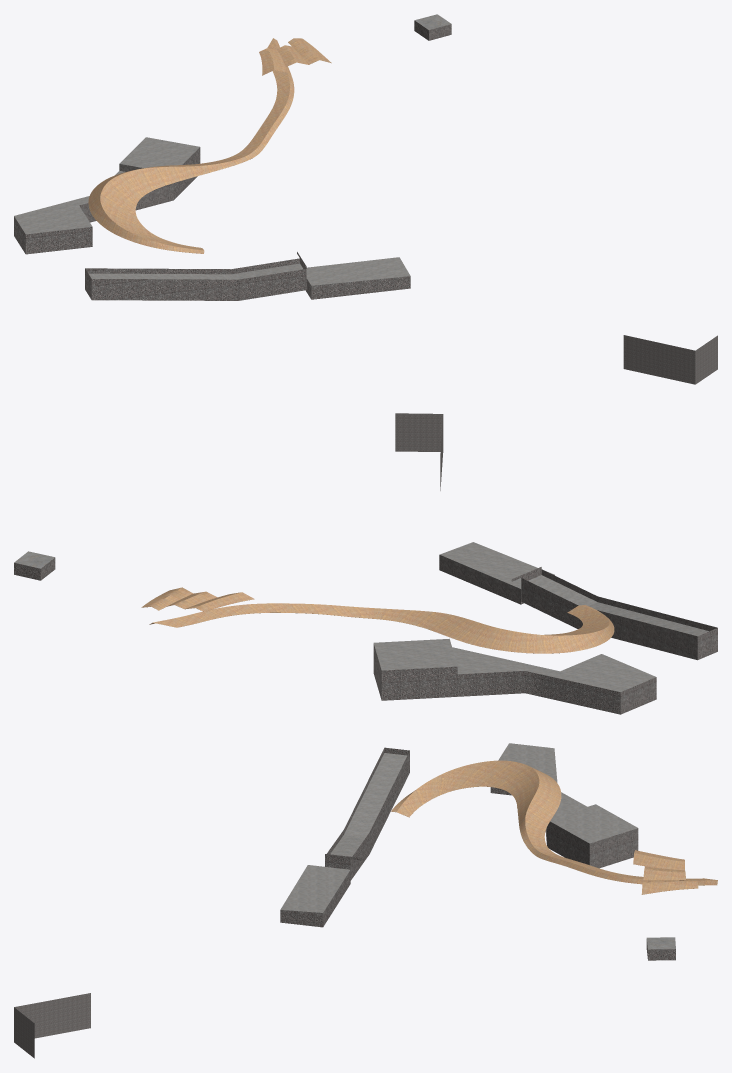
3 views of the same model, one above another, from view 1: azimuth 30°, elevation 25°; view 2: azimuth 150°, elevation 25°; view 3: azimuth 270°, elevation 25° (orthographic). The views are drawn at different scales.
Visible parts, largest first — view 1: LXZ81003 (×2), LXZ81001 (×2), LXZ81002 (×2); view 2: LXZ81003 (×3), LXZ81002 (×2), LXZ81001 (×2); view 3: LXZ81003 (×2), LXZ81001 (×2), LXZ81002 (×2).
Boxes of the visible parts, x1=… form: LXZ81003 (×2): x1=14, y1=147, x2=717, y2=384; LXZ81001 (×2): x1=88, y1=38, x2=331, y2=253; LXZ81002 (×2): x1=14, y1=137, x2=410, y2=285; LXZ81003 (×3): x1=14, y1=413, x2=717, y2=714; LXZ81002 (×2): x1=373, y1=542, x2=708, y2=691; LXZ81001 (×2): x1=141, y1=587, x2=614, y2=653; LXZ81003 (×2): x1=14, y1=747, x2=638, y2=1058; LXZ81001 (×2): x1=391, y1=760, x2=717, y2=894; LXZ81002 (×2): x1=280, y1=743, x2=637, y2=912.
Size of the model in its own units: 333 by 398 by 82.15.
Materials: 3 (3 with a texture image).
